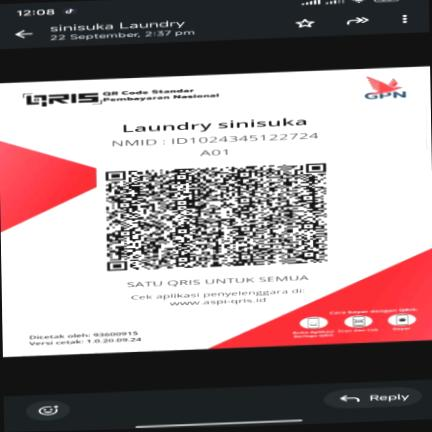Qris-Positioning: (0, 65, 432, 358)
